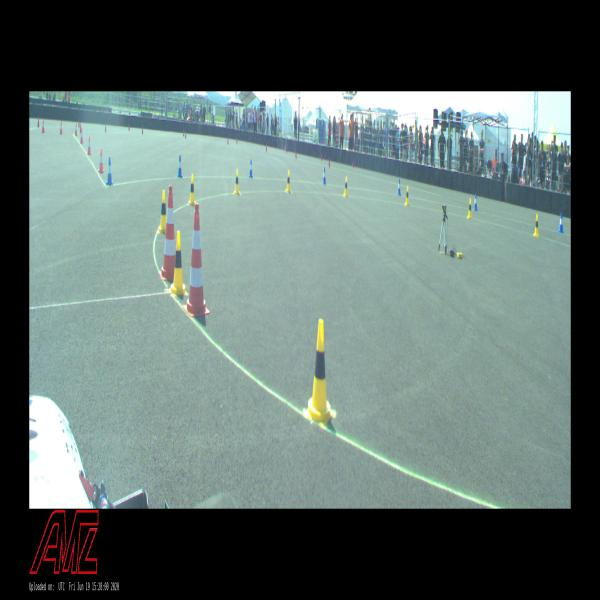blue_cone: (106, 157, 113, 185), (558, 212, 564, 232), (178, 156, 182, 178), (473, 194, 478, 211), (249, 159, 253, 178), (397, 179, 401, 195), (323, 168, 326, 184)
large_orange_cone: (184, 203, 210, 314), (159, 187, 175, 279)
orange_cone: (98, 149, 104, 173), (87, 136, 91, 154), (80, 128, 84, 144), (41, 119, 45, 133), (59, 121, 63, 134), (75, 122, 77, 136)
yellow_cone: (305, 321, 333, 425), (170, 231, 186, 294), (158, 190, 166, 233), (188, 174, 196, 205), (234, 169, 240, 194), (533, 214, 539, 237), (467, 198, 472, 218), (286, 170, 290, 193), (344, 177, 348, 197), (405, 186, 409, 205)
